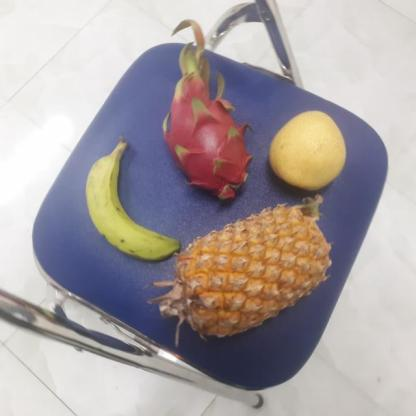banana: (82, 141, 179, 260)
pear: (266, 111, 346, 188)
pineapple: (161, 206, 325, 335)
pitaya: (163, 65, 256, 207)
